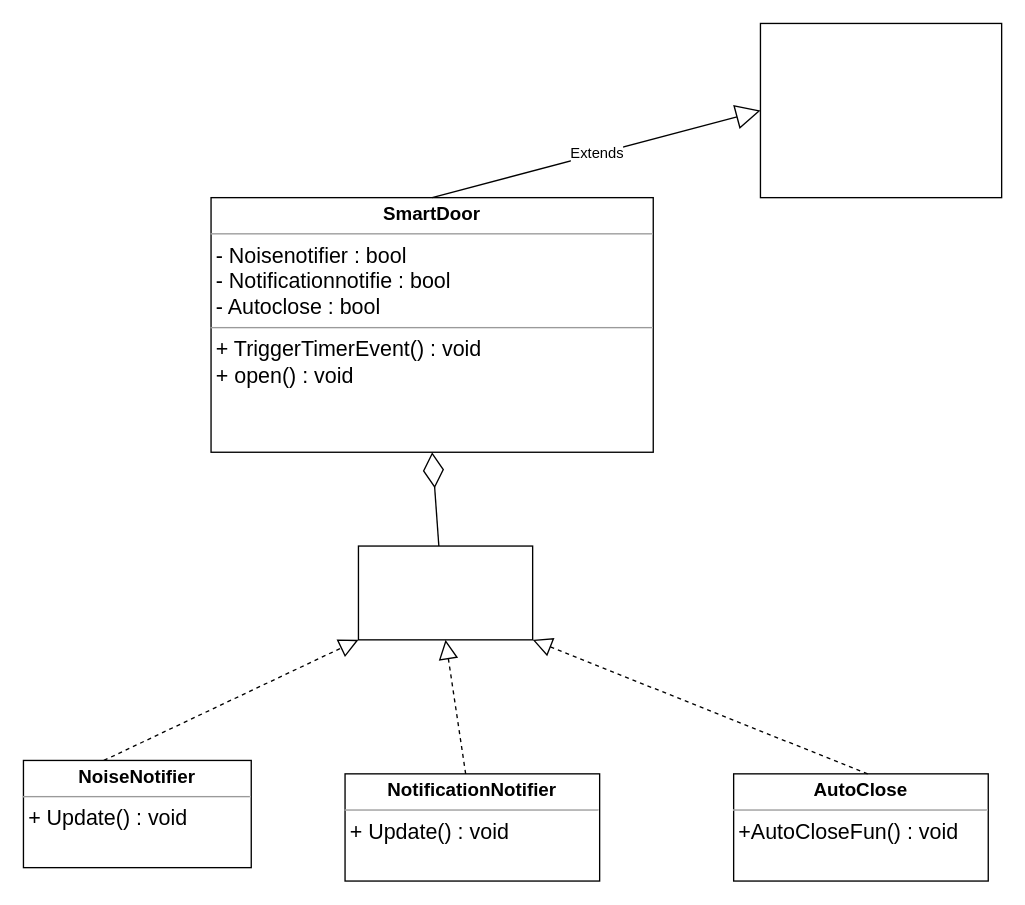
Image size: 1025x905. Some labels were removed from this diagram. Here are the shapes that lost their labels. From the top down, the centre of each, then its label:
At point 880,110: "SimpleDoor + State : enum + open() : void + close() : void".
At point 445,592: "«Event» TimerForEvent".
